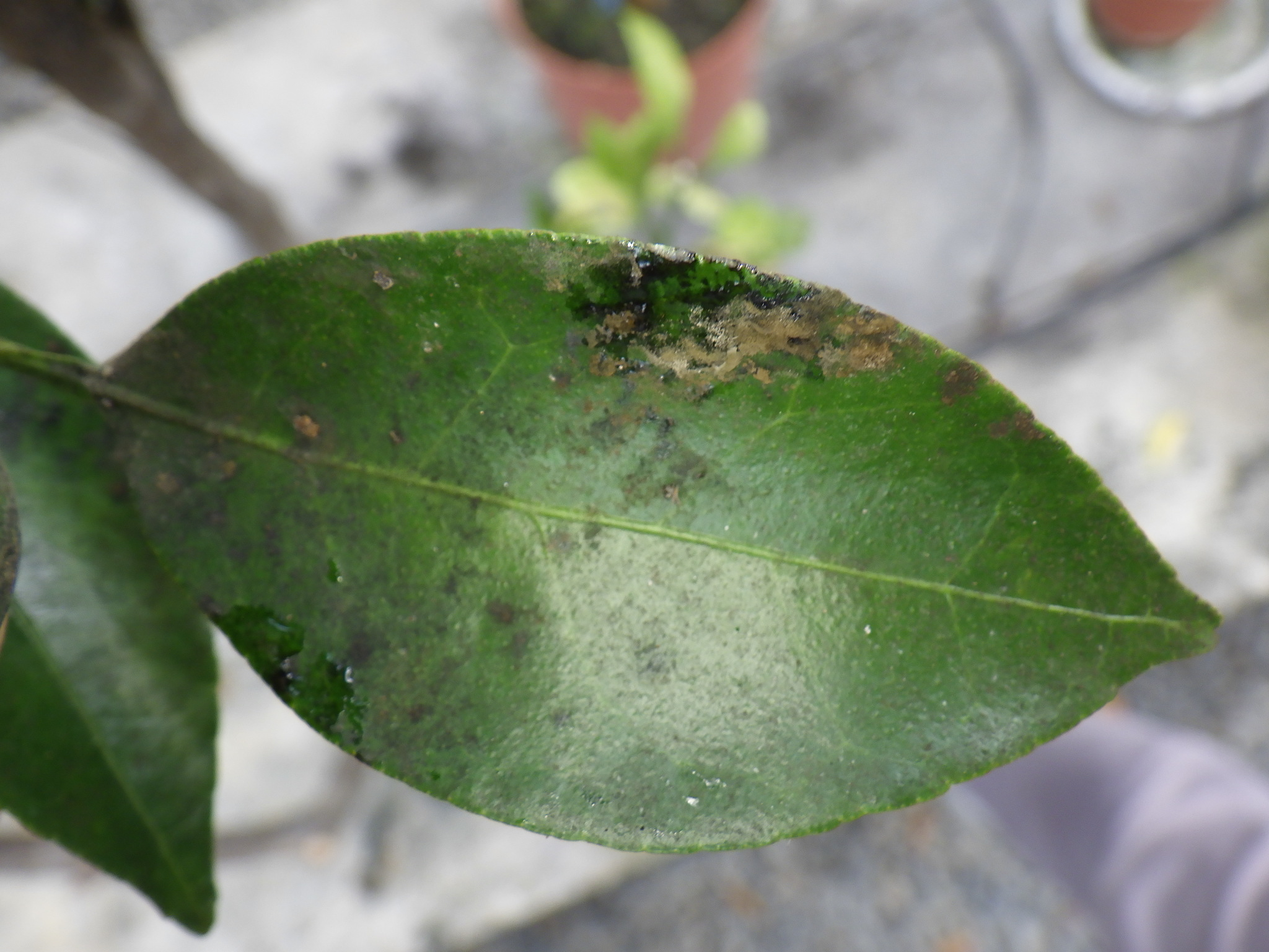Sooty_Mold: (5, 231, 1218, 850)
